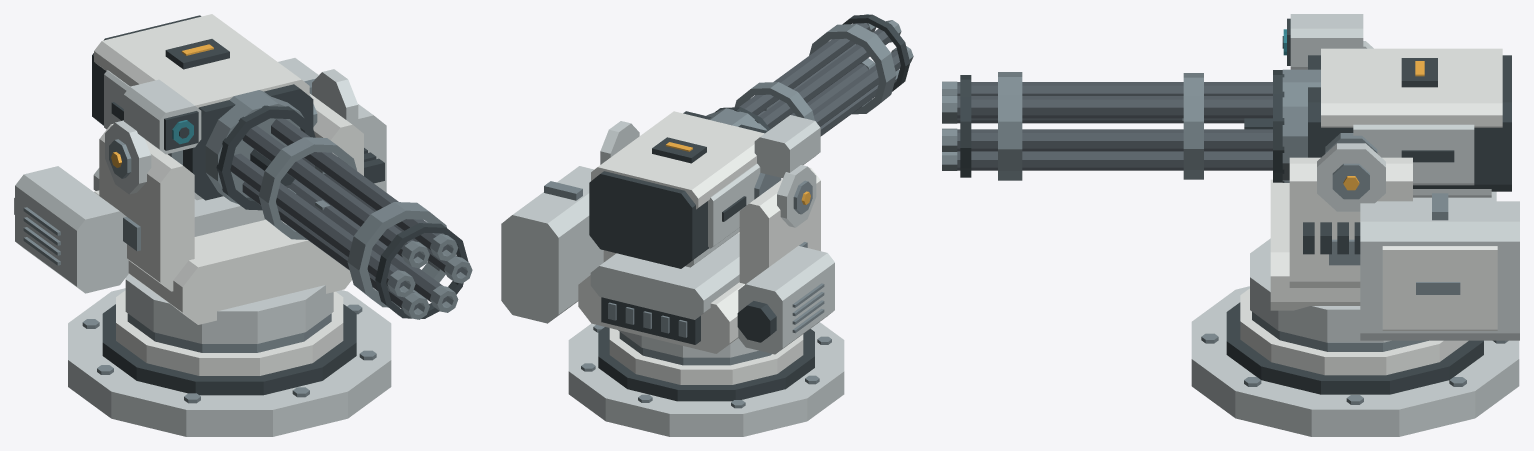
The model's file is ciws_material.glb.
3 renders of one model, left to right at view 1: azimuth 30°, elevation 25°; view 2: azimuth 150°, elevation 25°; view 3: azimuth 270°, elevation 25°, orthographic. The views are drawn at different scales.
Visible parts, largest first — view 1: CIWS_Material_00_FIXED_BASE, CIWS_Material_06_SIX_BARREL_ROTOR, CIWS_Material_01_TURNTABLE, CIWS_Material_04_GUN_HOUSING, CIWS_Material_02_FORK, CIWS_Material_03_AMMO_AND_DRIVE, CIWS_Material_05_OPTICAL_POD; view 2: CIWS_Material_00_FIXED_BASE, CIWS_Material_04_GUN_HOUSING, CIWS_Material_03_AMMO_AND_DRIVE, CIWS_Material_01_TURNTABLE, CIWS_Material_06_SIX_BARREL_ROTOR, CIWS_Material_02_FORK, CIWS_Material_05_OPTICAL_POD; view 3: CIWS_Material_00_FIXED_BASE, CIWS_Material_06_SIX_BARREL_ROTOR, CIWS_Material_04_GUN_HOUSING, CIWS_Material_03_AMMO_AND_DRIVE, CIWS_Material_02_FORK, CIWS_Material_01_TURNTABLE, CIWS_Material_05_OPTICAL_POD.
Boxes of the visible parts, left/top/right/bottom form: CIWS_Material_00_FIXED_BASE: left=68, top=288, right=391, bottom=436; CIWS_Material_06_SIX_BARREL_ROTOR: left=230, top=118, right=472, bottom=319; CIWS_Material_01_TURNTABLE: left=93, top=168, right=352, bottom=343; CIWS_Material_04_GUN_HOUSING: left=92, top=14, right=317, bottom=210; CIWS_Material_02_FORK: left=99, top=69, right=363, bottom=291; CIWS_Material_03_AMMO_AND_DRIVE: left=14, top=58, right=386, bottom=293; CIWS_Material_05_OPTICAL_POD: left=124, top=79, right=201, bottom=154; CIWS_Material_00_FIXED_BASE: left=568, top=322, right=844, bottom=436; CIWS_Material_04_GUN_HOUSING: left=589, top=107, right=781, bottom=268; CIWS_Material_03_AMMO_AND_DRIVE: left=501, top=166, right=834, bottom=354; CIWS_Material_01_TURNTABLE: left=578, top=232, right=758, bottom=357; CIWS_Material_06_SIX_BARREL_ROTOR: left=734, top=14, right=913, bottom=136; CIWS_Material_02_FORK: left=600, top=121, right=820, bottom=284; CIWS_Material_05_OPTICAL_POD: left=754, top=115, right=820, bottom=178; CIWS_Material_00_FIXED_BASE: left=1191, top=286, right=1519, bottom=436; CIWS_Material_06_SIX_BARREL_ROTOR: left=942, top=72, right=1272, bottom=180; CIWS_Material_04_GUN_HOUSING: left=1273, top=48, right=1511, bottom=197; CIWS_Material_03_AMMO_AND_DRIVE: left=1303, top=193, right=1519, bottom=340; CIWS_Material_02_FORK: left=1289, top=41, right=1412, bottom=287; CIWS_Material_01_TURNTABLE: left=1250, top=179, right=1496, bottom=342; CIWS_Material_05_OPTICAL_POD: left=1282, top=14, right=1363, bottom=69.
Bounding box in the file's own units: 1.86 × 1.67 × 2.86.
